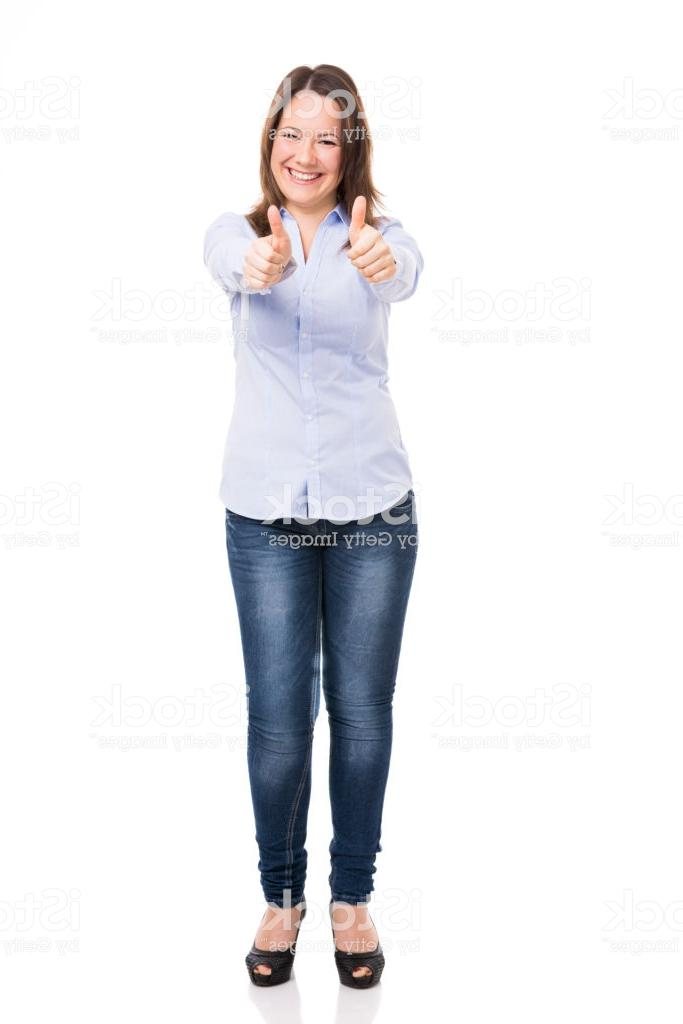thumbsup: (347, 195, 397, 287), (242, 203, 294, 291)
